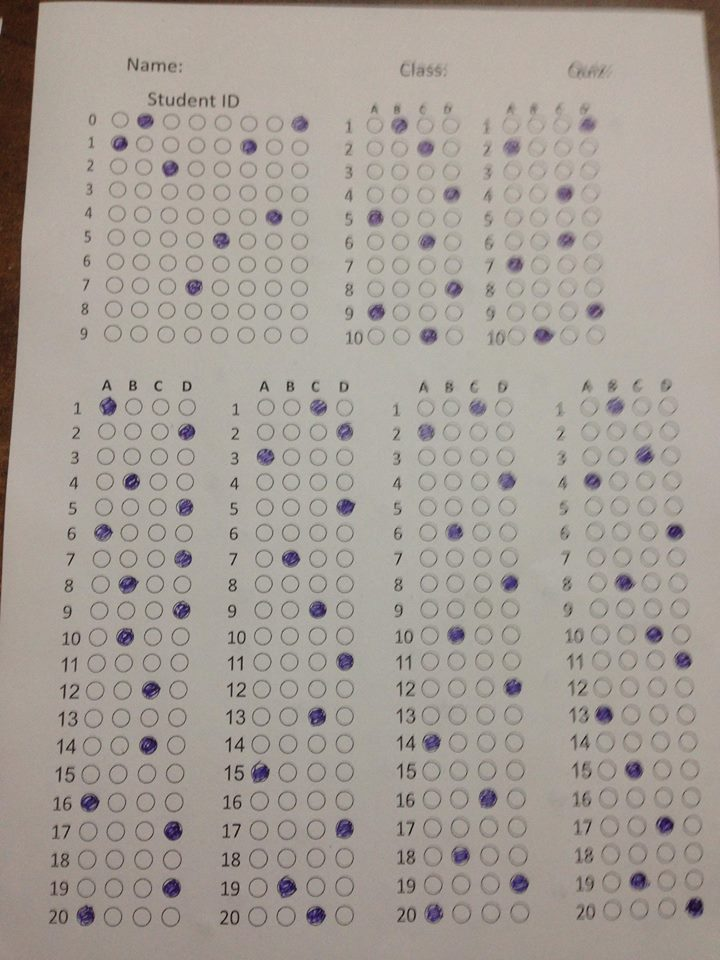not-c: (676, 704, 698, 727), (683, 814, 705, 837), (660, 472, 684, 493), (617, 649, 638, 673), (613, 599, 635, 621), (674, 675, 696, 697), (684, 843, 706, 865), (586, 325, 607, 348), (659, 423, 682, 444), (589, 651, 612, 672), (644, 648, 665, 671), (646, 677, 667, 700), (679, 761, 703, 781), (334, 763, 356, 784), (478, 816, 499, 838), (679, 731, 700, 753), (628, 844, 650, 865), (655, 844, 676, 866), (657, 897, 678, 919), (159, 906, 182, 926), (504, 761, 527, 781), (578, 423, 601, 443), (651, 761, 674, 781), (600, 901, 623, 921), (506, 790, 527, 811), (657, 396, 678, 417), (585, 571, 606, 592), (617, 625, 638, 646), (599, 814, 620, 835), (276, 849, 298, 869), (333, 905, 353, 927), (473, 652, 495, 672), (506, 816, 526, 838), (449, 874, 469, 896), (642, 597, 664, 617), (680, 788, 702, 808), (627, 817, 647, 839), (600, 872, 622, 892), (304, 791, 327, 810), (671, 626, 694, 645), (652, 787, 675, 806), (170, 653, 191, 673), (166, 734, 186, 755), (135, 791, 155, 812), (132, 849, 153, 869), (335, 791, 356, 811), (334, 877, 355, 897), (247, 907, 268, 927), (452, 904, 473, 924), (580, 184, 601, 204), (584, 495, 604, 516), (637, 497, 657, 518), (613, 521, 633, 542), (585, 547, 606, 567), (667, 548, 688, 568), (668, 574, 689, 594), (651, 731, 671, 752), (685, 869, 705, 890), (110, 735, 129, 757), (105, 823, 127, 842), (249, 708, 271, 727), (275, 791, 297, 810), (419, 627, 441, 646), (479, 904, 501, 923), (511, 903, 530, 925), (588, 626, 610, 645), (623, 788, 645, 807), (630, 899, 649, 921), (507, 847, 530, 865), (579, 448, 602, 466), (89, 601, 109, 621), (171, 627, 191, 647), (112, 680, 132, 700), (169, 680, 189, 700), (163, 850, 183, 870), (251, 679, 271, 699), (306, 735, 326, 755), (305, 877, 325, 897), (447, 678, 467, 698), (481, 874, 501, 894), (632, 421, 652, 441), (608, 471, 628, 491), (665, 497, 685, 517), (670, 600, 690, 620), (601, 845, 621, 865), (141, 653, 162, 672), (85, 680, 106, 699), (335, 706, 356, 725), (278, 905, 297, 926), (420, 679, 441, 698), (502, 185, 523, 204), (555, 208, 574, 229), (583, 280, 604, 299), (531, 305, 552, 324), (608, 447, 627, 468), (660, 448, 681, 467), (639, 523, 660, 542), (641, 547, 660, 568), (592, 679, 613, 698), (619, 679, 640, 698), (597, 788, 616, 809), (307, 576, 329, 594), (276, 764, 298, 782), (502, 735, 525, 752), (582, 523, 605, 540), (265, 114, 284, 134), (265, 184, 285, 203), (125, 398, 145, 417), (175, 472, 195, 491), (145, 574, 165, 593), (173, 574, 193, 593), (116, 600, 136, 619), (145, 599, 164, 619), (108, 764, 127, 784), (137, 765, 157, 784), (106, 793, 125, 813), (166, 793, 185, 813), (77, 823, 97, 842), (78, 849, 97, 869), (134, 879, 153, 899), (131, 907, 151, 926), (308, 524, 328, 543), (253, 600, 273, 619), (308, 651, 327, 671), (251, 736, 271, 755), (306, 820, 326, 839), (495, 424, 515, 443), (472, 499, 492, 518), (419, 524, 439, 543), (471, 522, 491, 541), (501, 625, 521, 644), (478, 761, 497, 781), (480, 848, 500, 867), (553, 161, 572, 181), (581, 208, 600, 228), (556, 254, 575, 274), (559, 325, 578, 345), (611, 496, 630, 516), (589, 599, 609, 618), (651, 705, 670, 725), (597, 731, 617, 750), (109, 111, 130, 129), (214, 112, 232, 133), (146, 524, 167, 542), (173, 523, 194, 541), (87, 628, 108, 646), (85, 655, 106, 673), (114, 656, 135, 674), (139, 709, 160, 727), (76, 879, 97, 897), (247, 850, 268, 868), (415, 400, 436, 418), (498, 524, 519, 542), (445, 575, 466, 593), (473, 573, 491, 594), (421, 764, 442, 782), (504, 279, 525, 297), (636, 472, 654, 493), (597, 761, 618, 779), (502, 233, 525, 249), (134, 181, 153, 200), (212, 208, 231, 227), (185, 231, 204, 250), (211, 255, 230, 274), (159, 277, 178, 296), (237, 280, 256, 299), (176, 448, 195, 467), (149, 497, 168, 516), (144, 628, 163, 647), (82, 765, 101, 784), (135, 821, 154, 840), (309, 550, 328, 569), (336, 549, 355, 568), (335, 601, 354, 620), (308, 627, 327, 646), (279, 708, 298, 727), (278, 735, 297, 754), (308, 764, 327, 783), (502, 600, 521, 619), (424, 876, 443, 895), (506, 304, 525, 323), (634, 399, 653, 418), (642, 574, 661, 593), (163, 114, 183, 132), (189, 115, 209, 133), (240, 114, 260, 132), (185, 184, 205, 202), (133, 228, 151, 248), (177, 398, 197, 416), (149, 423, 169, 441), (121, 447, 141, 465), (96, 473, 116, 491), (82, 737, 102, 755), (106, 850, 124, 870), (104, 879, 124, 897), (104, 906, 122, 926), (256, 474, 276, 492), (335, 525, 355, 543), (256, 548, 274, 568), (281, 575, 301, 593), (335, 627, 355, 645), (251, 792, 269, 812), (249, 822, 269, 840), (305, 850, 325, 868), (335, 850, 355, 868), (248, 878, 268, 896), (391, 327, 411, 345), (445, 327, 463, 347), (498, 498, 518, 516), (444, 550, 464, 568), (421, 600, 439, 620), (446, 654, 466, 672), (474, 679, 494, 697), (449, 761, 467, 781), (552, 118, 572, 136), (580, 163, 600, 181), (529, 186, 549, 204), (581, 232, 599, 252), (506, 329, 526, 347), (605, 424, 625, 442), (611, 548, 631, 566), (495, 449, 516, 466), (418, 550, 439, 567), (504, 211, 525, 228), (161, 182, 180, 200), (159, 208, 178, 226), (158, 255, 177, 273), (238, 255, 257, 273), (265, 257, 284, 275), (213, 278, 231, 297), (264, 280, 283, 298), (289, 303, 308, 321), (158, 325, 177, 343), (184, 326, 202, 345), (210, 326, 229, 344), (289, 326, 308, 344), (122, 497, 140, 516), (91, 576, 110, 594), (84, 709, 103, 727), (111, 708, 129, 727), (167, 709, 186, 727), (167, 764, 185, 783), (336, 399, 355, 417), (309, 422, 327, 441), (309, 473, 328, 491), (283, 499, 301, 518), (310, 498, 329, 516), (281, 602, 299, 621), (252, 628, 271, 646), (279, 627, 298, 645), (279, 681, 298, 699), (390, 187, 409, 205), (393, 279, 411, 298), (441, 423, 460, 441), (469, 448, 488, 466), (472, 550, 491, 568), (474, 600, 493, 618), (420, 653, 439, 671), (502, 652, 521, 670), (505, 705, 523, 724), (423, 790, 441, 809), (557, 278, 575, 297), (558, 304, 577, 322), (579, 396, 598, 414), (624, 706, 642, 725), (624, 733, 642, 752), (162, 134, 179, 154), (107, 181, 127, 198), (105, 253, 125, 270), (132, 254, 152, 271), (185, 255, 205, 272), (131, 278, 151, 295), (149, 448, 169, 465), (255, 500, 275, 517), (307, 682, 327, 699), (422, 708, 442, 725), (447, 734, 467, 751), (530, 234, 550, 251), (659, 871, 676, 891), (209, 303, 230, 319), (365, 119, 386, 135), (476, 737, 497, 753), (186, 136, 204, 154), (110, 157, 128, 175), (240, 162, 258, 180), (266, 161, 284, 179), (240, 184, 258, 202), (107, 229, 125, 247), (239, 232, 257, 250), (106, 276, 124, 294), (292, 280, 310, 298), (105, 300, 123, 318), (151, 399, 169, 417), (255, 575, 273, 593), (336, 575, 354, 593), (254, 654, 272, 672), (337, 680, 355, 698), (337, 736, 355, 754), (278, 822, 296, 840), (417, 187, 435, 205), (393, 304, 411, 322), (418, 447, 436, 465), (500, 550, 518, 568), (474, 626, 492, 644), (584, 257, 602, 275), (186, 160, 205, 177), (133, 206, 152, 223), (265, 233, 284, 250), (290, 234, 309, 251), (130, 301, 149, 318), (156, 303, 175, 320), (129, 325, 148, 342), (237, 327, 256, 344), (97, 448, 116, 465), (147, 551, 166, 568), (281, 654, 298, 673), (443, 474, 462, 491), (448, 600, 465, 619), (476, 707, 495, 724), (423, 848, 442, 865), (526, 140, 545, 157), (579, 140, 598, 157), (501, 164, 520, 181), (212, 185, 232, 201), (263, 303, 283, 319), (92, 551, 112, 567), (281, 525, 301, 541), (443, 305, 463, 321), (500, 118, 520, 134), (135, 135, 153, 152), (135, 158, 153, 175), (291, 161, 309, 178), (108, 205, 126, 222), (239, 209, 257, 226), (292, 257, 309, 275), (185, 303, 203, 320), (106, 326, 124, 343), (124, 422, 142, 439), (150, 473, 168, 490), (121, 523, 138, 541), (258, 399, 276, 416), (310, 448, 327, 466), (337, 448, 354, 466), (283, 473, 300, 491), (417, 118, 434, 136), (392, 141, 409, 159), (391, 210, 409, 227), (417, 210, 434, 228), (391, 234, 409, 251), (445, 235, 463, 252), (367, 258, 385, 275), (393, 257, 410, 275), (444, 257, 461, 275), (367, 280, 385, 297), (445, 449, 462, 467), (448, 707, 466, 724), (264, 139, 283, 155), (159, 231, 178, 247), (118, 551, 137, 567), (255, 525, 274, 541), (444, 211, 460, 230), (469, 473, 488, 489), (419, 577, 438, 593), (552, 140, 571, 156), (528, 163, 547, 179), (529, 210, 548, 226), (263, 328, 283, 343), (530, 259, 551, 273), (213, 161, 230, 178), (187, 208, 204, 225), (391, 164, 408, 181), (368, 234, 385, 251), (470, 425, 487, 442), (532, 281, 549, 298), (214, 139, 232, 155), (290, 210, 308, 226), (98, 423, 116, 439), (284, 424, 300, 442), (283, 449, 301, 465), (336, 475, 354, 491), (441, 118, 459, 134), (367, 164, 383, 182), (366, 186, 384, 202), (419, 281, 435, 299), (442, 401, 460, 417), (419, 501, 437, 517), (446, 500, 462, 518), (450, 791, 468, 807), (452, 819, 468, 837), (237, 304, 256, 319), (256, 425, 275, 440), (366, 331, 385, 346), (292, 185, 309, 201), (95, 500, 112, 516), (442, 141, 458, 158), (417, 164, 434, 180), (419, 258, 435, 275), (495, 399, 512, 415), (424, 819, 440, 836), (529, 117, 545, 134), (418, 474, 436, 489), (285, 400, 301, 416), (444, 164, 460, 180), (418, 306, 435, 321), (292, 139, 307, 155), (368, 141, 384, 156)
taken-c: (508, 869, 532, 896), (683, 893, 707, 920), (162, 819, 187, 844), (302, 902, 327, 927), (498, 570, 523, 595), (422, 900, 446, 926), (622, 757, 646, 783), (476, 785, 500, 810), (627, 868, 651, 893), (671, 647, 696, 671), (249, 758, 271, 785), (592, 702, 616, 726), (139, 678, 162, 703), (420, 731, 443, 756), (654, 812, 677, 837), (276, 875, 299, 899), (443, 520, 466, 544), (663, 520, 687, 543), (78, 790, 101, 813), (414, 420, 437, 443), (466, 396, 489, 419), (495, 469, 518, 492), (643, 623, 666, 646), (612, 572, 637, 593), (633, 444, 658, 465), (175, 421, 198, 443), (170, 599, 193, 621), (137, 734, 159, 757), (333, 818, 355, 841), (307, 598, 329, 621), (334, 495, 356, 518), (440, 183, 463, 205), (445, 623, 467, 646), (75, 904, 96, 928), (306, 705, 327, 729), (580, 471, 604, 492), (109, 132, 131, 154), (389, 114, 411, 136), (502, 676, 524, 698), (415, 138, 436, 161), (365, 207, 388, 228), (584, 300, 607, 321), (290, 113, 311, 135), (238, 135, 260, 156), (159, 158, 181, 179), (184, 276, 206, 297), (93, 522, 114, 544), (116, 625, 137, 647), (280, 548, 301, 570), (255, 446, 277, 467), (366, 302, 388, 323), (418, 325, 439, 347), (450, 844, 471, 866), (604, 396, 626, 417), (554, 183, 576, 204), (161, 876, 181, 899), (172, 549, 193, 570), (117, 574, 138, 595), (335, 650, 356, 671), (416, 231, 437, 252), (532, 325, 553, 346), (97, 396, 119, 416), (335, 421, 355, 443), (135, 110, 155, 131), (175, 496, 195, 517), (309, 397, 329, 418), (443, 278, 464, 298), (504, 254, 525, 274), (500, 138, 521, 158), (576, 115, 597, 135), (264, 208, 286, 227), (556, 230, 576, 250), (211, 230, 231, 249), (122, 471, 141, 491)
